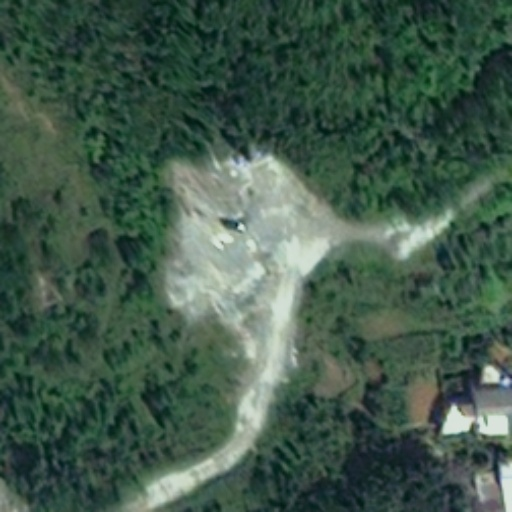landslide: (157, 153, 348, 314)
